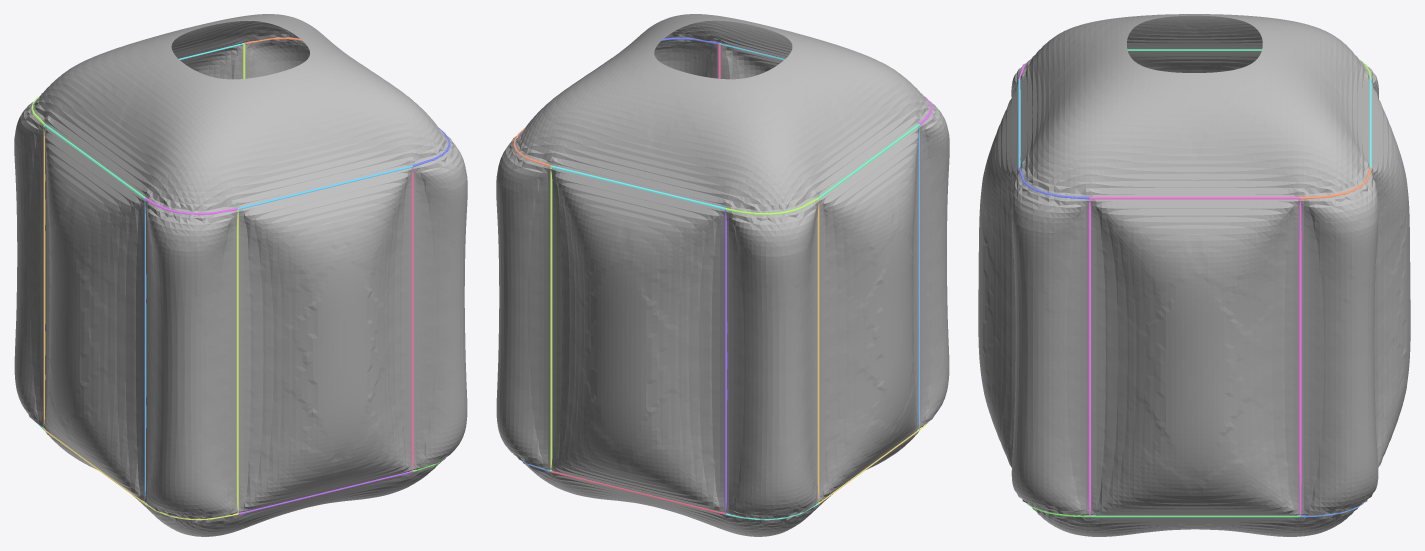
File: onshape_simple_shape.gltf
The picture shows the model from 3 angles, left to right: view 1: azimuth 30°, elevation 25°; view 2: azimuth 150°, elevation 25°; view 3: azimuth 270°, elevation 25°; orthographic projection. The views are drawn at different scales.
Size of the model in its own units: 0.7082 by 0.8052 by 0.7114.
